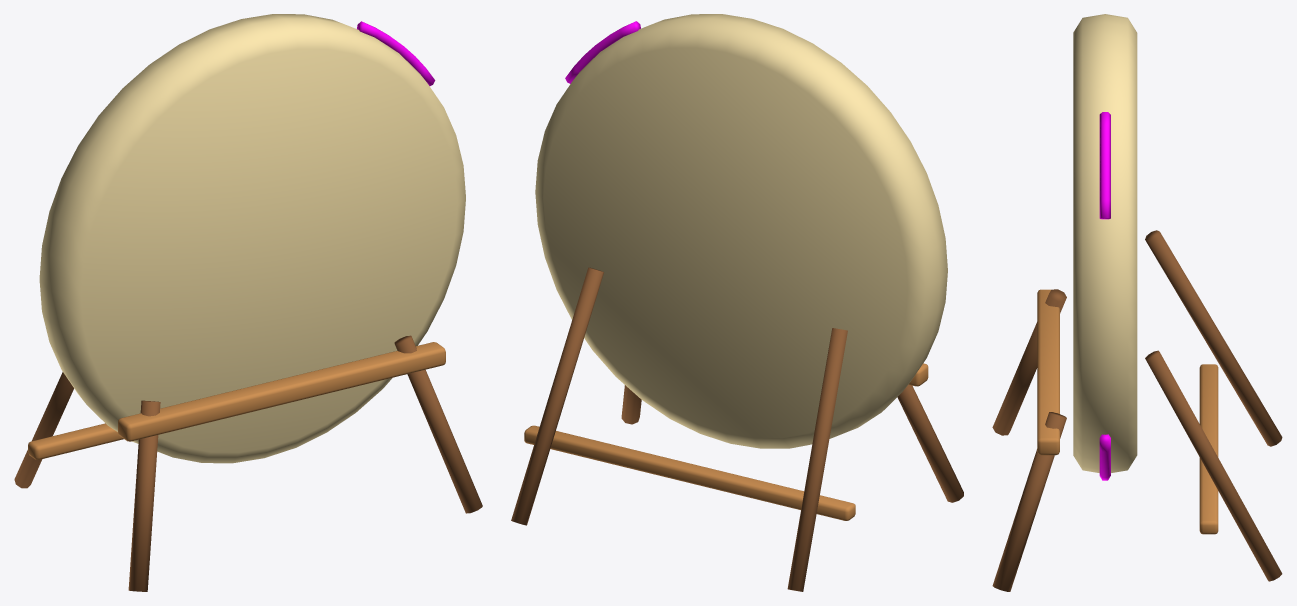
File: archery_target.glb
3 renders of one model, left to right at view 1: azimuth 30°, elevation 25°; view 2: azimuth 150°, elevation 25°; view 3: azimuth 270°, elevation 25°, orthographic. The views are drawn at different scales.
Parts seen in each view (by area): view 1: archery_target; view 2: archery_target; view 3: archery_target.
Boxes of the visible parts, <box> form: archery_target: <box>14,14,482,591</box>; archery_target: <box>511,14,963,591</box>; archery_target: <box>992,14,1282,591</box>.
Size of the model in its own units: 2.44 by 2.79 by 1.54.
